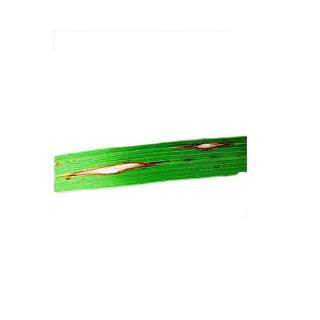Blast: (69, 156, 161, 180), (175, 134, 239, 158)
